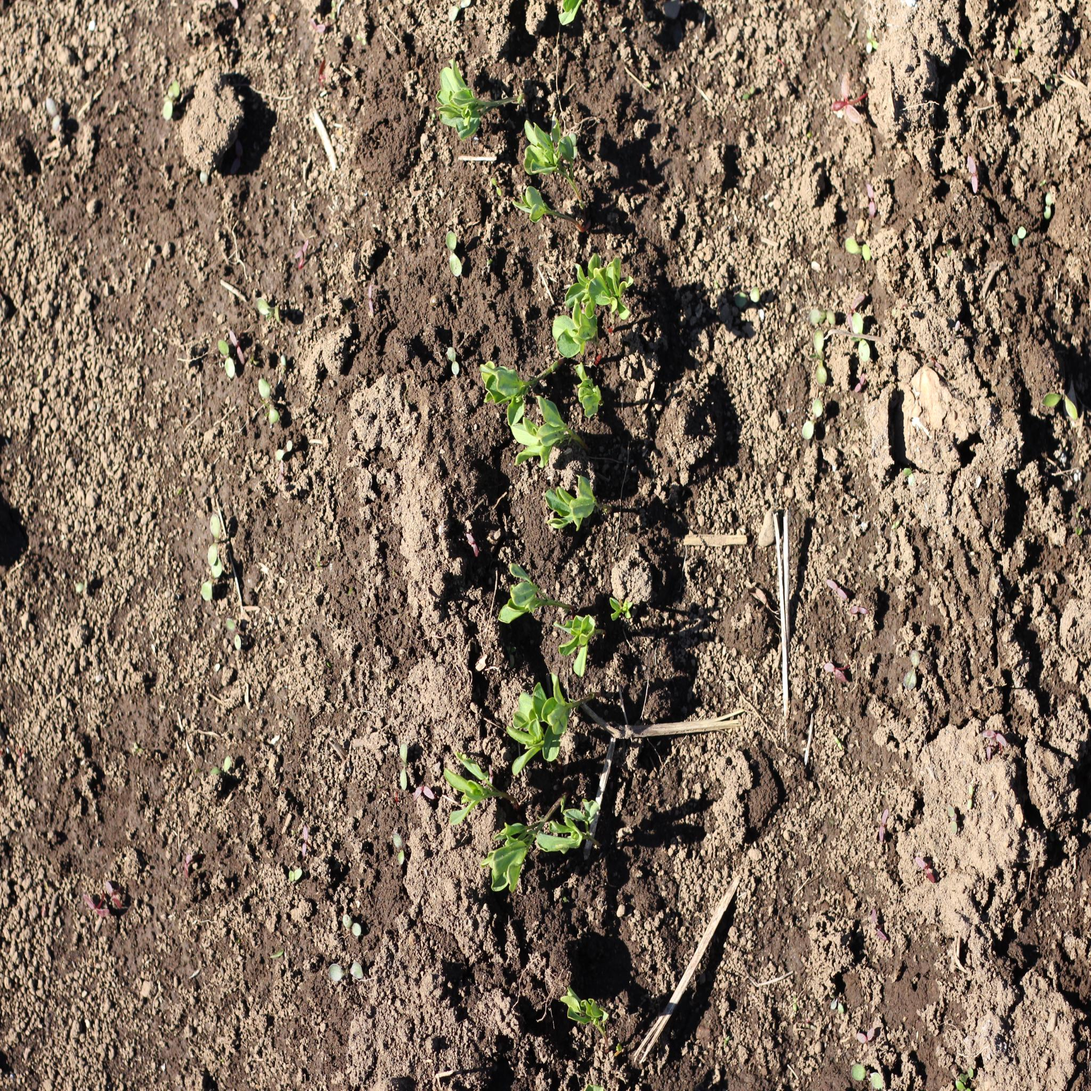AMBEL: (206, 513, 225, 581), (852, 309, 874, 365), (1042, 389, 1081, 420), (256, 375, 280, 425), (801, 396, 827, 441), (199, 565, 224, 606), (813, 329, 830, 386), (851, 1063, 885, 1091), (444, 228, 463, 278), (162, 76, 182, 123), (215, 337, 236, 380), (845, 236, 875, 263), (396, 742, 410, 793), (737, 284, 765, 309), (45, 94, 62, 135), (902, 646, 919, 687), (445, 0, 471, 24), (256, 295, 280, 321), (810, 306, 839, 327), (209, 755, 233, 780), (225, 618, 242, 653), (342, 914, 362, 940), (445, 343, 460, 376), (956, 1067, 976, 1091), (274, 438, 294, 461), (951, 1063, 971, 1086), (392, 834, 404, 867), (327, 963, 345, 985), (1012, 224, 1028, 248), (866, 27, 880, 54), (488, 173, 503, 197), (1044, 189, 1055, 220), (948, 805, 959, 836), (902, 467, 915, 492), (743, 84, 759, 102), (350, 962, 364, 982), (287, 868, 303, 885), (967, 783, 976, 813), (832, 1000, 847, 1016), (890, 519, 901, 529)
LENCU: (505, 671, 573, 774), (563, 250, 634, 316), (509, 393, 571, 468), (477, 816, 534, 892), (537, 789, 601, 854), (518, 112, 578, 177), (435, 60, 480, 139), (545, 471, 600, 530), (477, 359, 527, 422), (495, 557, 541, 625), (441, 750, 493, 810), (556, 614, 601, 679), (553, 303, 601, 358), (562, 987, 610, 1031), (576, 361, 606, 418), (510, 183, 548, 223), (611, 598, 637, 624)
POLPE: (915, 852, 943, 887), (83, 892, 109, 919), (228, 136, 245, 177), (967, 153, 982, 195), (872, 907, 887, 948), (825, 662, 849, 686), (229, 327, 245, 363), (828, 579, 850, 603), (295, 236, 310, 270), (983, 724, 1005, 747), (105, 880, 122, 909), (866, 180, 878, 218), (464, 529, 479, 557), (413, 784, 435, 803), (880, 808, 891, 844), (308, 16, 327, 35), (854, 371, 870, 393), (300, 825, 310, 858), (862, 1025, 879, 1044), (366, 281, 375, 316), (834, 98, 854, 110), (853, 606, 870, 618)
